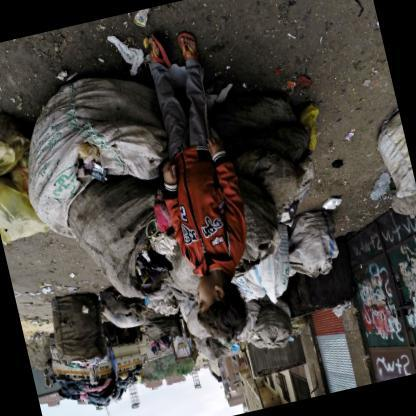Garbage: (8, 55, 172, 221), (0, 155, 68, 258), (298, 211, 355, 300), (0, 79, 47, 179), (268, 44, 324, 110), (359, 167, 395, 210), (319, 173, 352, 211), (121, 9, 152, 33), (322, 149, 346, 175), (343, 115, 363, 140)
